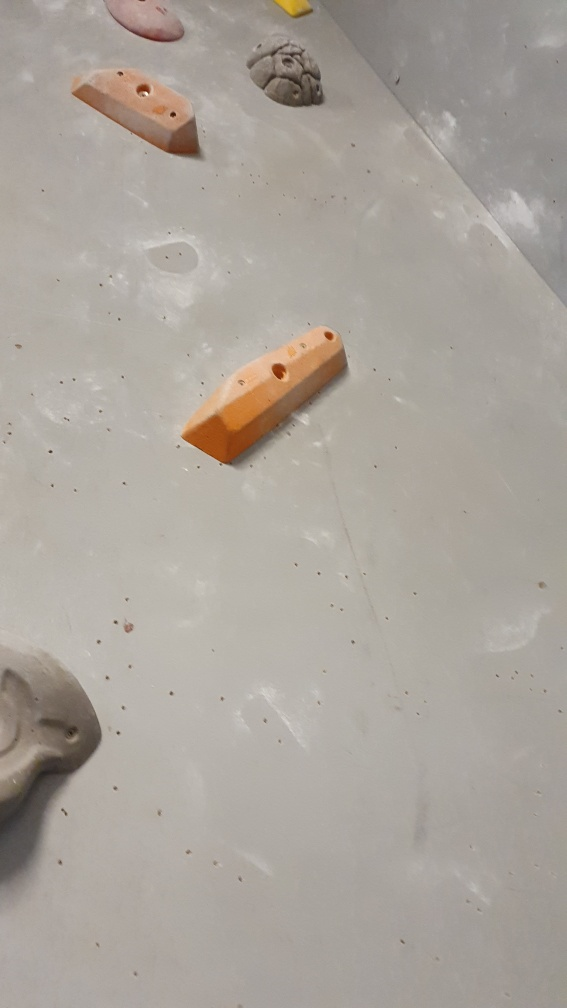Jug: (245, 31, 326, 109)
Pinch: (181, 324, 348, 465), (71, 63, 203, 158)
